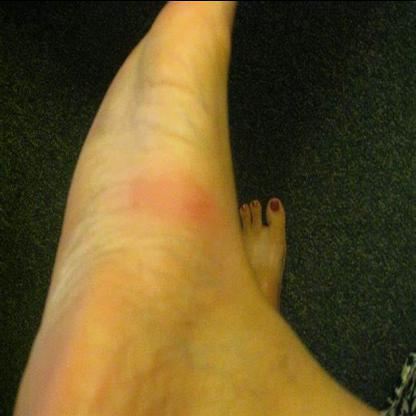Wasp: (119, 161, 225, 237)
